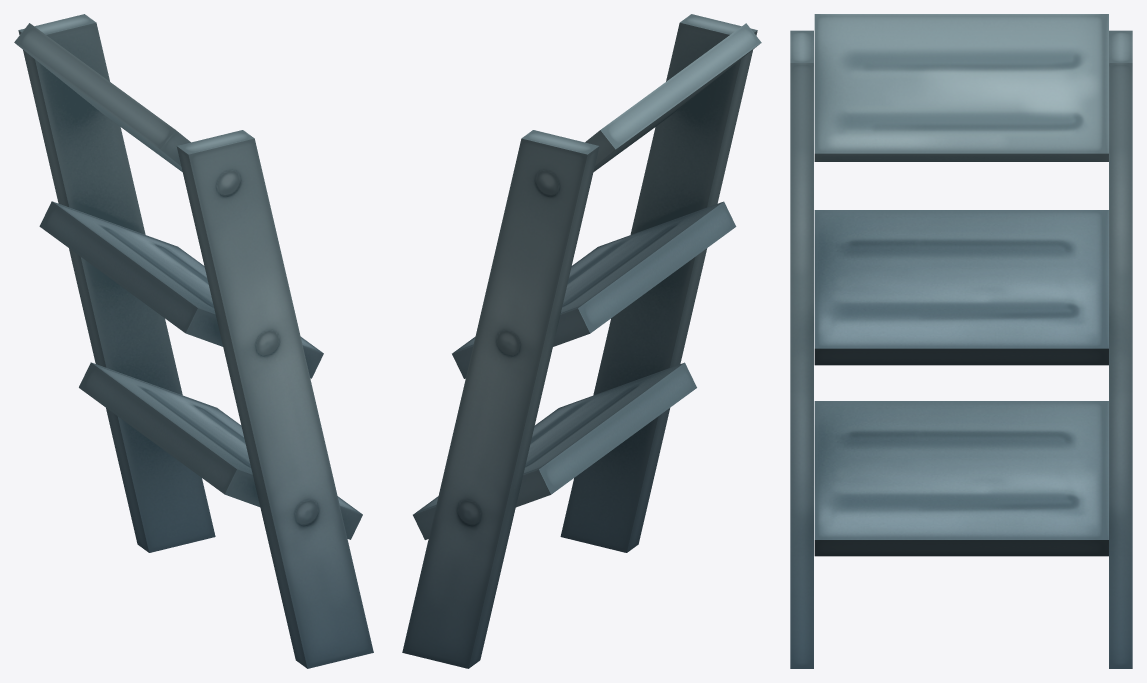
Rendered from S_GardenThing_06.fbx.
3 renders of one model, left to right at view 1: azimuth 30°, elevation 25°; view 2: azimuth 150°, elevation 25°; view 3: azimuth 270°, elevation 25°, orthographic.
Parts seen in each view (by area): view 1: S_GardenThing_06; view 2: S_GardenThing_06; view 3: S_GardenThing_06.
Part boxes in pixels (<box>): S_GardenThing_06: <box>14,14,373,668</box>; S_GardenThing_06: <box>402,14,761,668</box>; S_GardenThing_06: <box>790,14,1132,668</box>.
Bounding box in the file's own units: 64.94 × 171 × 94.25.
